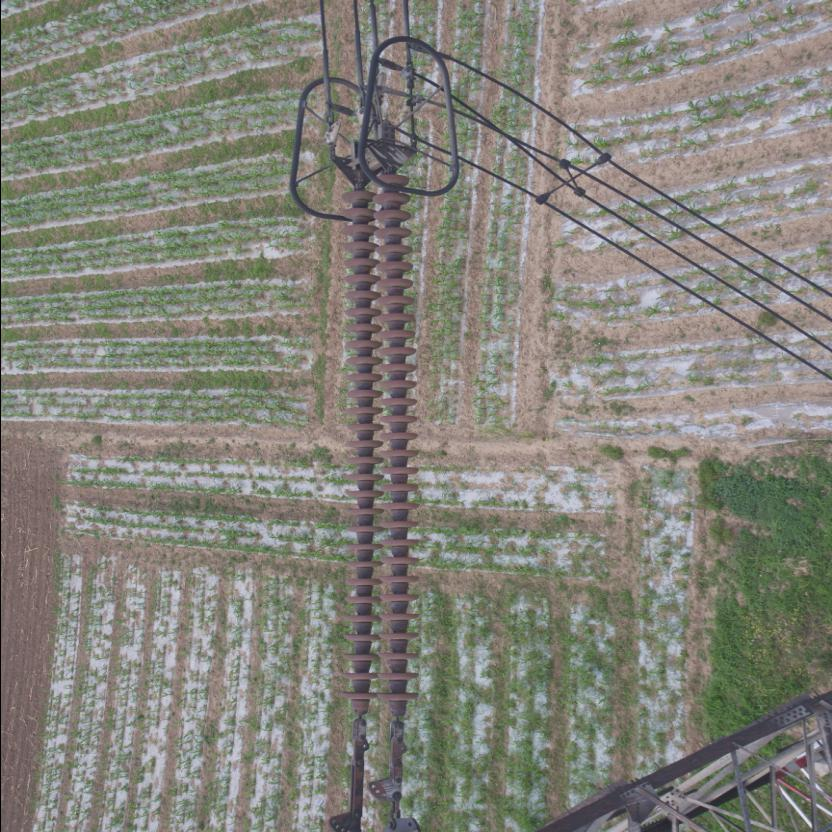insulator: (331, 155, 419, 776)
